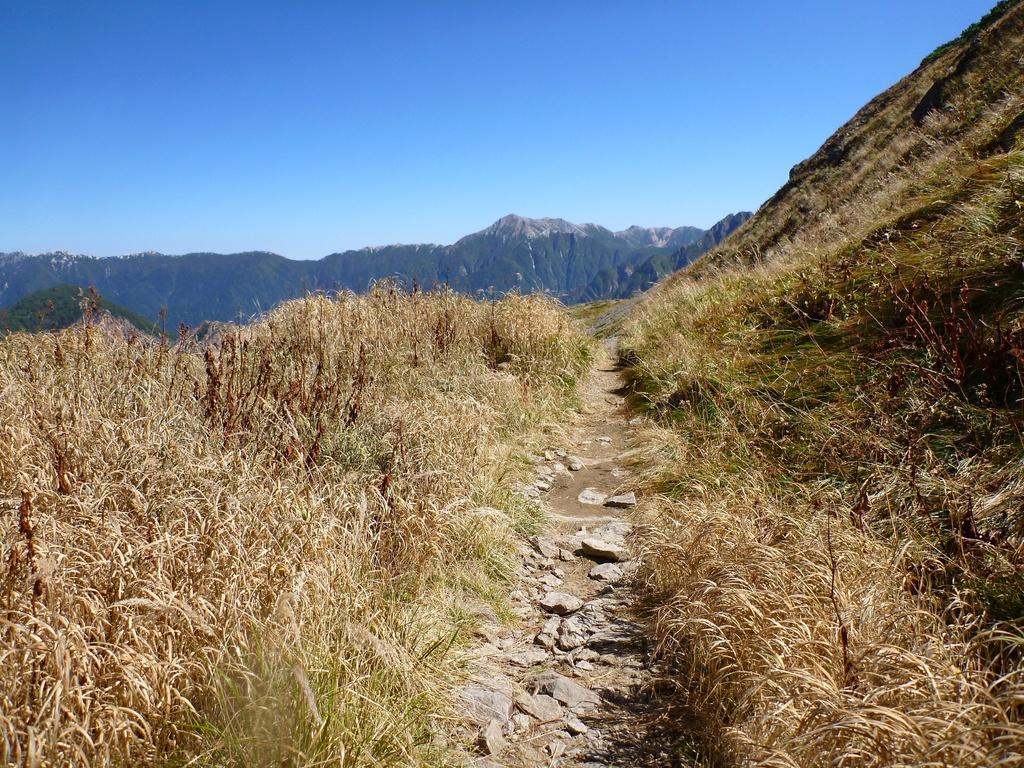Tree: (0, 271, 165, 333)
